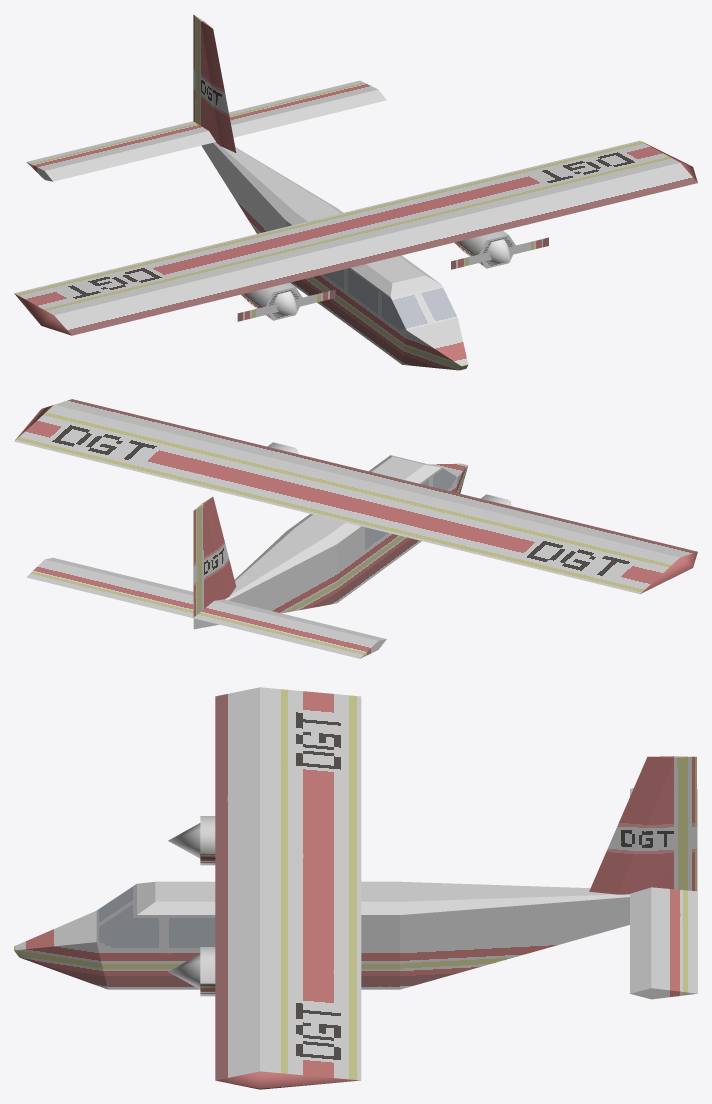
File: 0383_Prop_Plane.glb
The picture shows the model from 3 angles, top to bottom: view 1: azimuth 30°, elevation 25°; view 2: azimuth 150°, elevation 25°; view 3: azimuth 270°, elevation 25°; orthographic projection. The views are drawn at different scales.
Parts seen in each view (by area): view 1: part_1, part_2, part_0; view 2: part_1; view 3: part_1, part_0, part_2.
Part boxes in pixels (x1,y1,x2,y2): part_1: [14, 14, 697, 370]; part_2: [237, 289, 335, 321]; part_0: [451, 237, 548, 269]; part_1: [14, 399, 697, 658]; part_1: [14, 687, 697, 1089]; part_0: [168, 954, 200, 989]; part_2: [168, 823, 200, 858].
Size of the model in its own units: 14.92 by 3.77 by 10.78.
3 materials, 3 textured.
